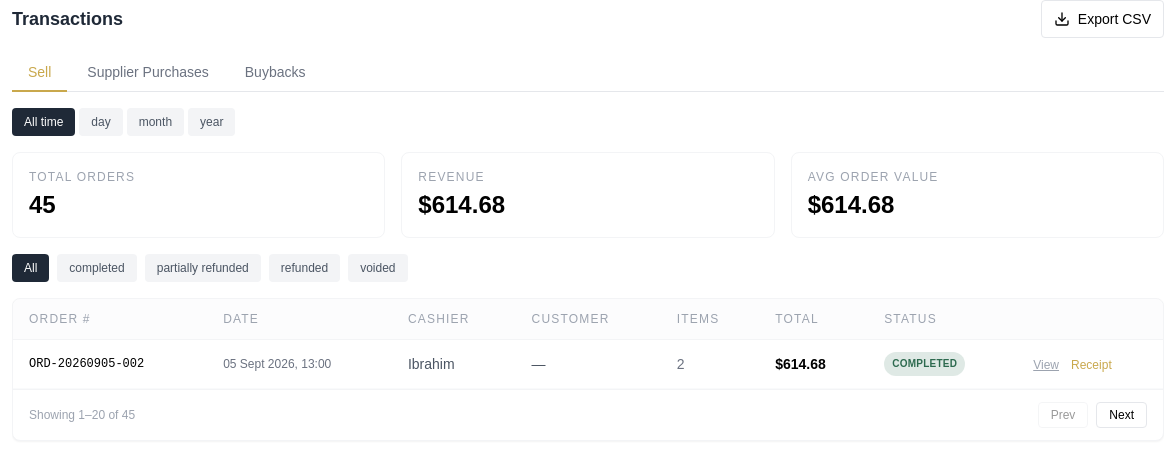
orders list in English is unchanged › keeps the original wording
Expected: the heading "Transactions" is shown, [12,5,123,33]
Expected: the text "Showing 1–20 of 45" is shown, [29,407,135,423]
Click the button "Supplier Purchases".
click(148, 73)  # box [71,54,225,92]
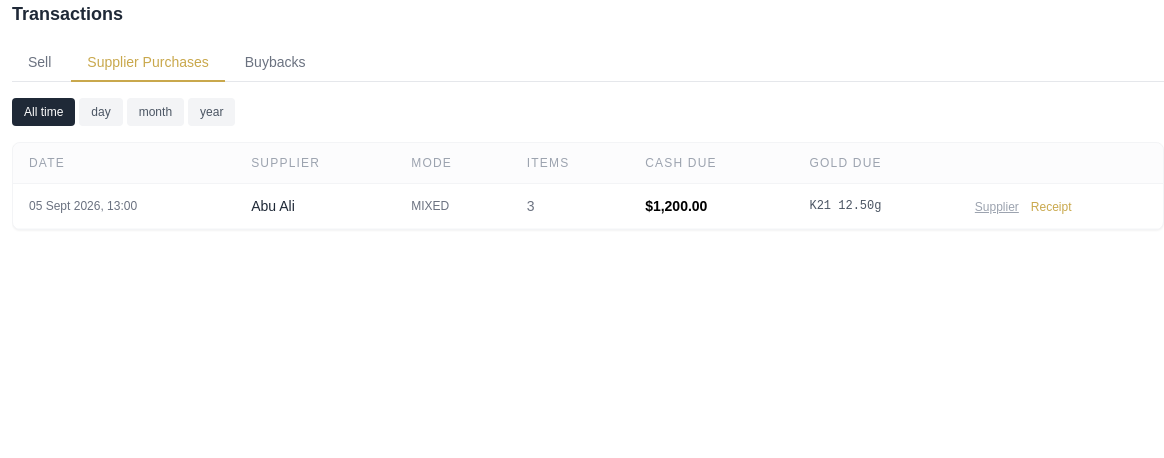
Now the text "MIXED" is shown, box [395,184,511,228]
Now the text "K21 12.50" reads "K21 12.50g", box [794,184,959,228]
Click the button "Buybacks".
click(275, 63)  # box [229,44,322,82]
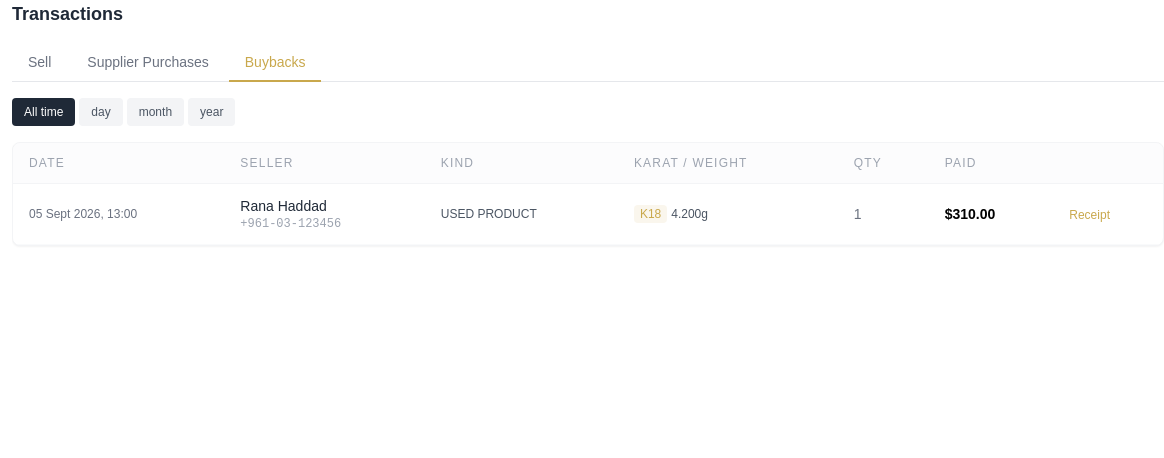
Now the text "USED PRODUCT" is shown, box [425,184,618,244]
Now the text "4.200g" is shown, box [671,207,708,221]
